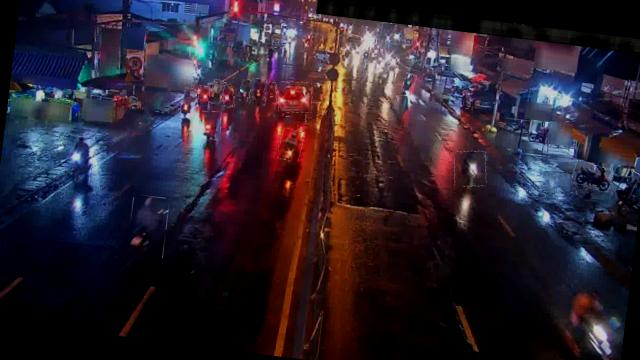Bike: (125, 194, 168, 260), (64, 134, 94, 185), (451, 148, 488, 188), (570, 160, 613, 192), (276, 127, 304, 162), (198, 110, 222, 140), (178, 87, 196, 118), (248, 78, 267, 105), (502, 118, 530, 133), (208, 79, 224, 104), (400, 73, 416, 97), (220, 84, 235, 108), (263, 81, 278, 104), (238, 78, 252, 102), (196, 86, 210, 108)
Car: (275, 78, 313, 114)
